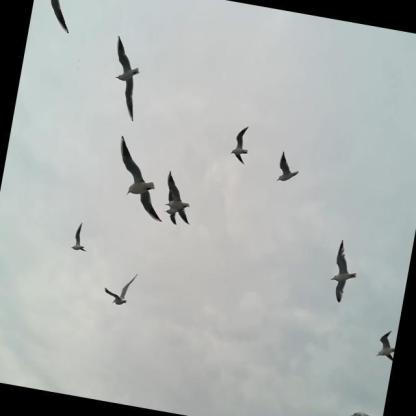bird: (105, 131, 176, 223), (101, 33, 150, 122), (324, 236, 362, 307), (160, 170, 199, 227), (28, 0, 80, 37), (101, 266, 140, 309), (228, 121, 254, 168), (275, 146, 303, 187), (372, 327, 398, 364), (69, 217, 93, 254), (162, 189, 183, 226), (343, 407, 383, 416)
